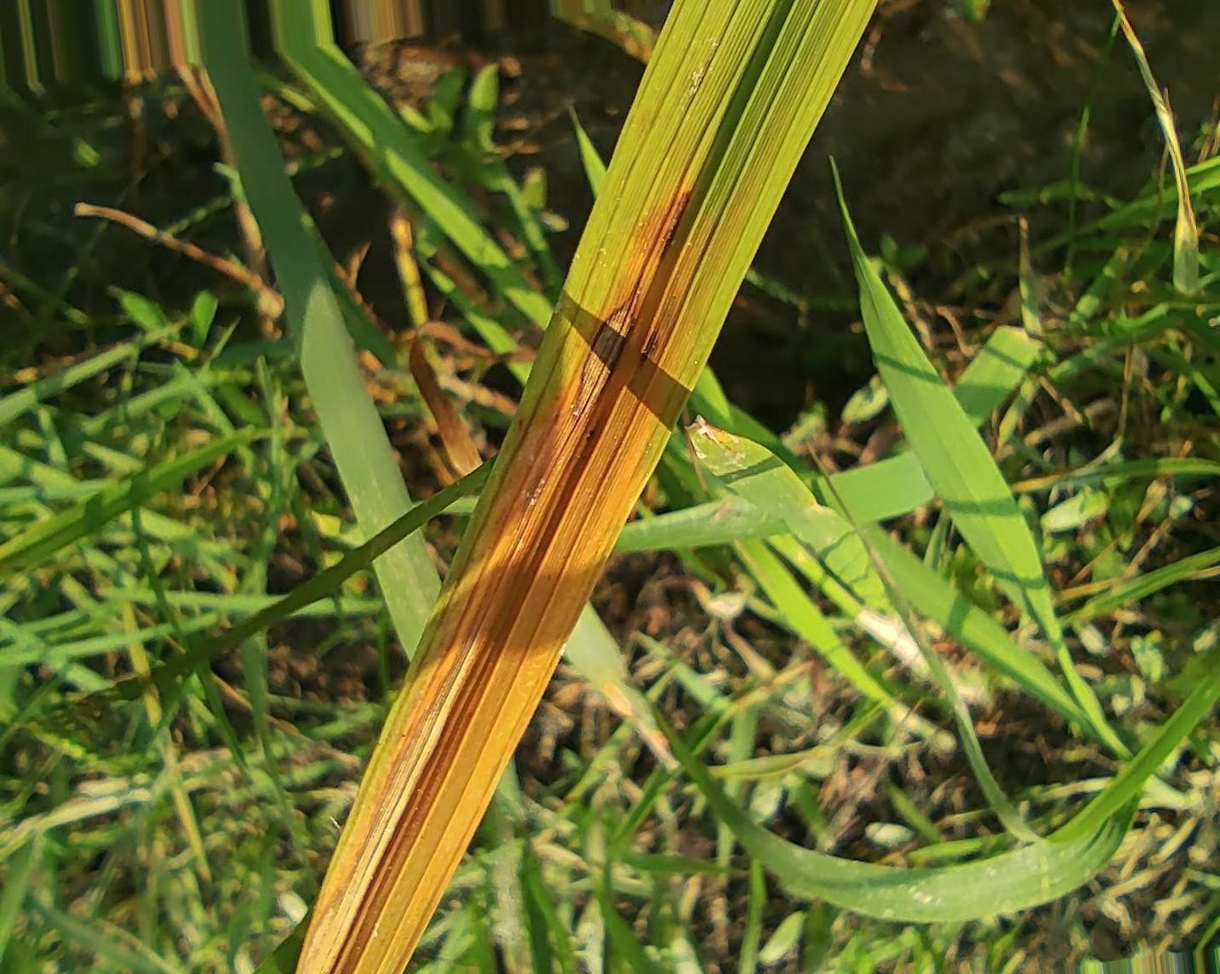LEAF: (295, 0, 879, 973)
LEAF BLAST: (576, 278, 641, 420)
